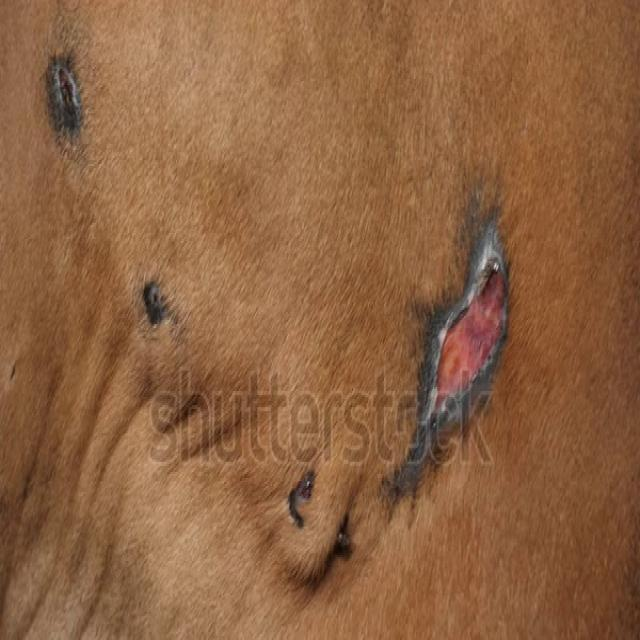injured-animals: (0, 2, 637, 638)
